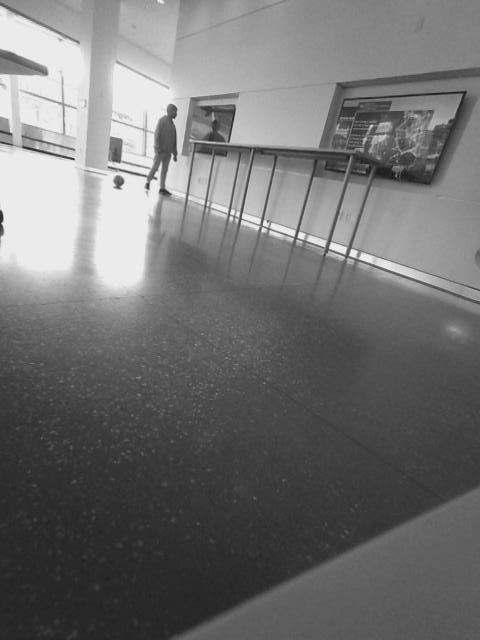ball: (113, 173, 125, 186)
